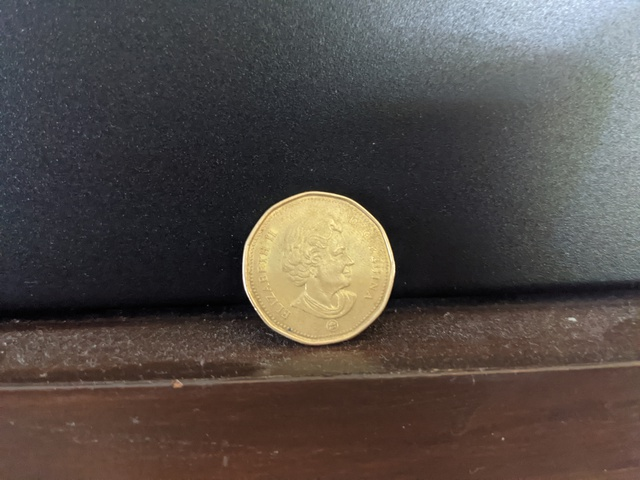loonie: (228, 181, 402, 348)
